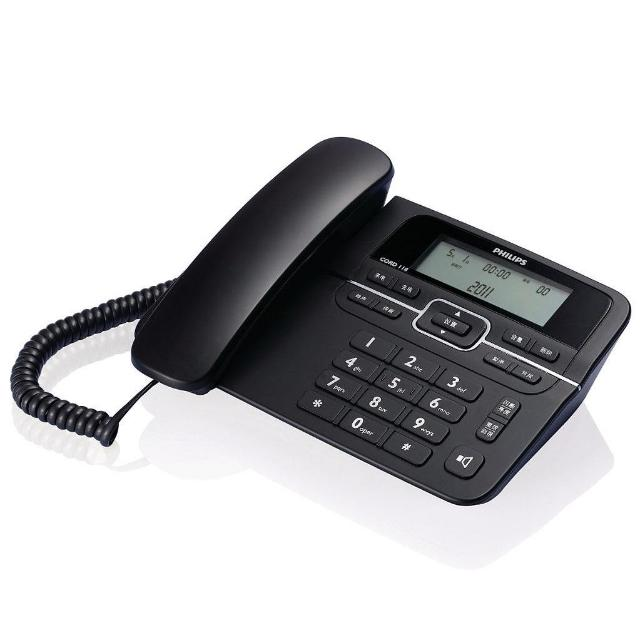Telephone-Set: (128, 93, 640, 507)
